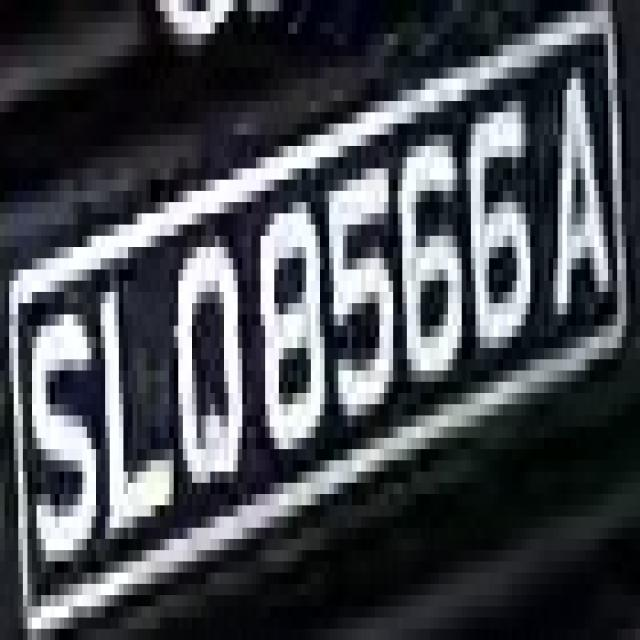5: (315, 101, 398, 415)
6: (444, 78, 540, 370), (389, 112, 466, 416)
8: (261, 191, 338, 460)
A: (544, 56, 622, 337)
L: (87, 258, 183, 528)
Q: (165, 236, 256, 528)
S: (18, 269, 96, 584)
